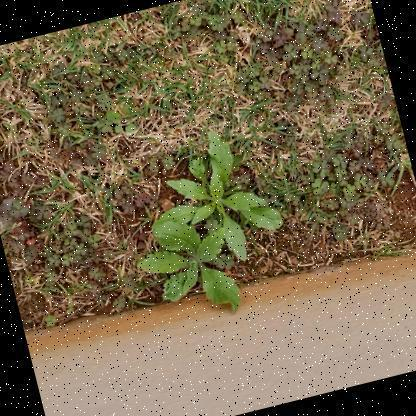Weeds: (132, 114, 293, 284), (129, 206, 244, 335)
